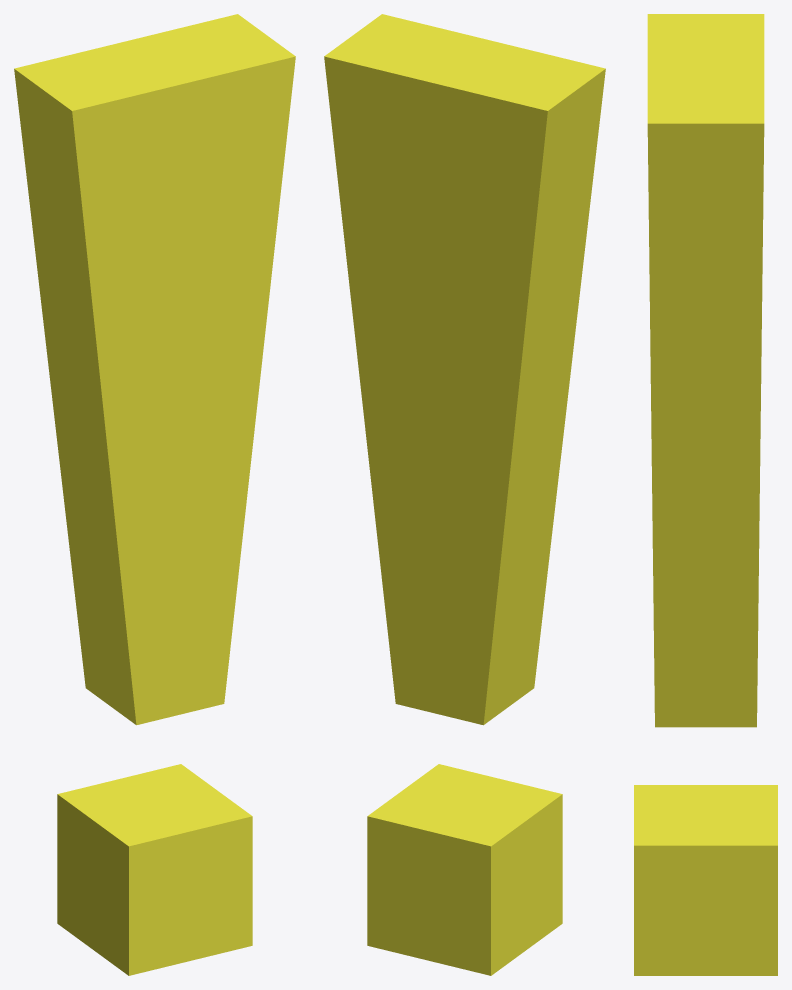
File: Event-Exclaimation.fbx
The picture shows the model from 3 angles, left to right: view 1: azimuth 30°, elevation 25°; view 2: azimuth 150°, elevation 25°; view 3: azimuth 270°, elevation 25°; orthographic projection.
Parts seen in each view (by area): view 1: Event-Exclaimation; view 2: Event-Exclaimation; view 3: Event-Exclaimation.
Boxes of the visible parts, x1,y1,x2,y2 form: Event-Exclaimation: (14, 14, 295, 975); Event-Exclaimation: (324, 14, 605, 975); Event-Exclaimation: (634, 14, 777, 975).
Bounding box in the file's own units: 137 × 512 × 76.02.
1 material, 1 textured.
